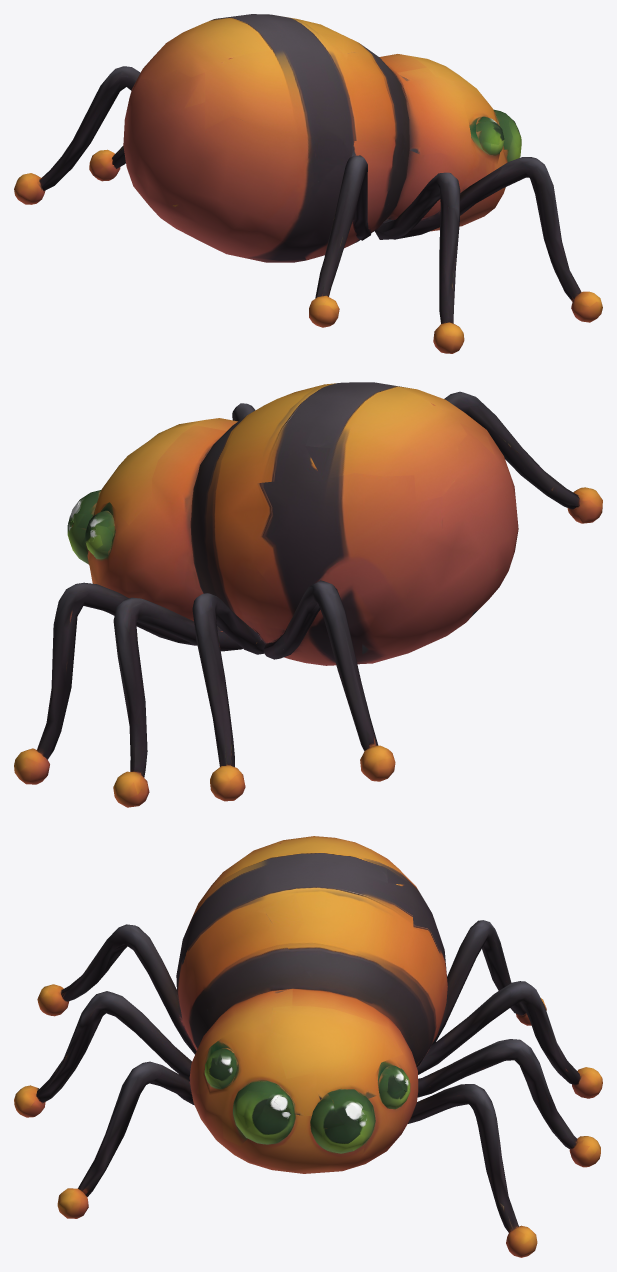
File: E3_Dangle_LOD1.fbx
3 views of the same model, one above another, from view 1: azimuth 30°, elevation 25°; view 2: azimuth 150°, elevation 25°; view 3: azimuth 270°, elevation 25° (orthographic). The views are drawn at different scales.
Visible parts, largest first — view 1: E3_Dangle_LOD1; view 2: E3_Dangle_LOD1; view 3: E3_Dangle_LOD1.
Part boxes in pixels (<box>): E3_Dangle_LOD1: <box>14,14,602,353</box>; E3_Dangle_LOD1: <box>14,382,602,807</box>; E3_Dangle_LOD1: <box>14,836,602,1257</box>.
Size of the model in its own units: 0.1141 by 0.0901 by 0.1553.
Materials: 1 (1 with a texture image).
